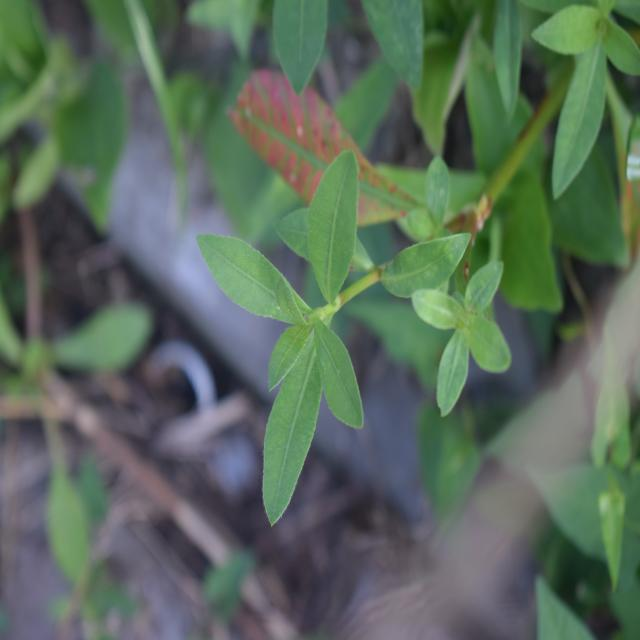Alligatorweed: (186, 141, 395, 551), (412, 215, 531, 449)
